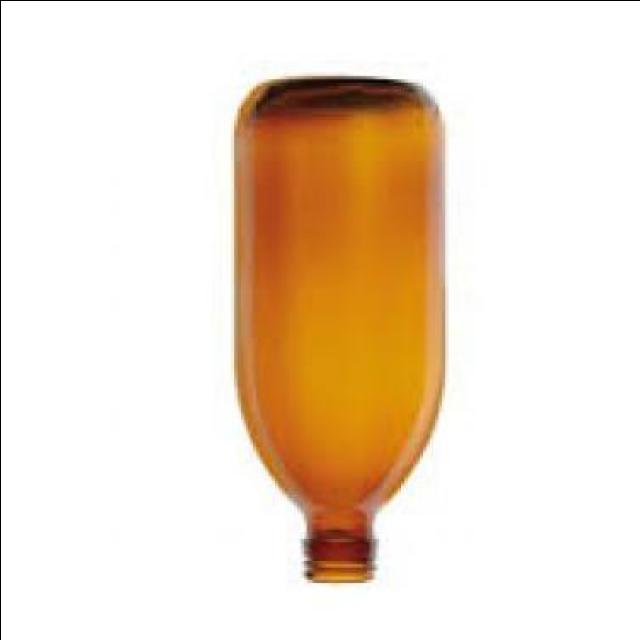kaca: (230, 79, 441, 586)
